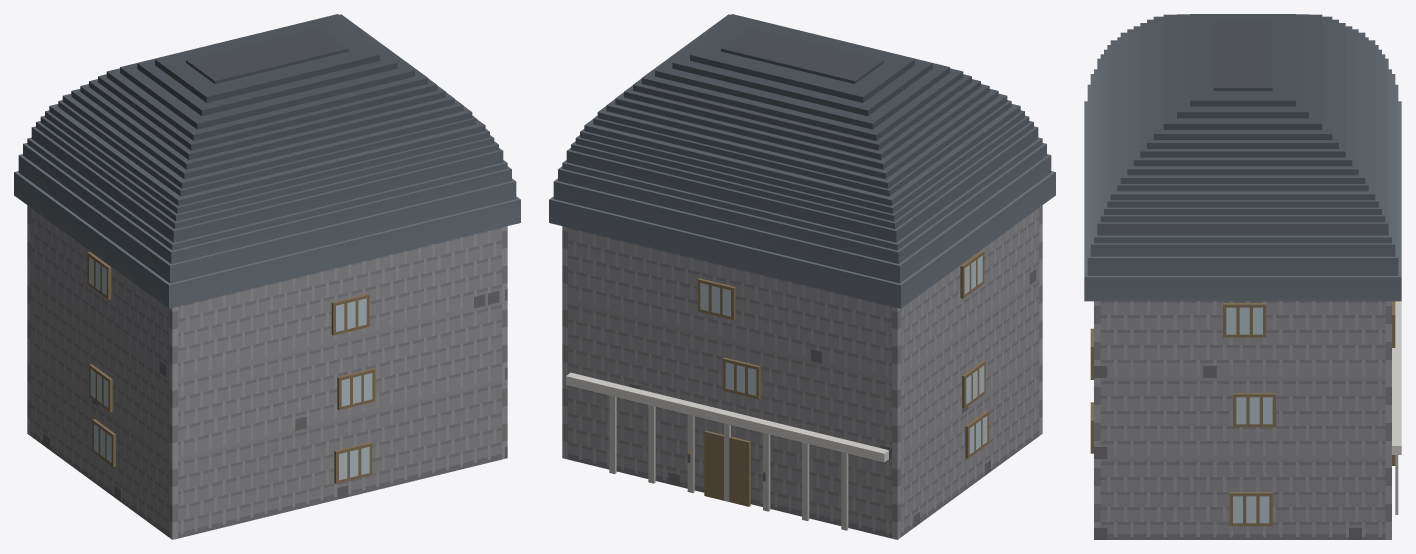
Rendered from academia_arcana_02.glb.
3 renders of one model, left to right at view 1: azimuth 30°, elevation 25°; view 2: azimuth 150°, elevation 25°; view 3: azimuth 270°, elevation 25°, orthographic. The views are drawn at different scales.
Visible parts, largest first — view 1: academia_arcana_02; view 2: academia_arcana_02; view 3: academia_arcana_02.
Boxes of the visible parts, left/top/right/bottom form: academia_arcana_02: left=14, top=14, right=520, bottom=539; academia_arcana_02: left=549, top=14, right=1055, bottom=539; academia_arcana_02: left=1084, top=14, right=1401, bottom=539.
Size of the model in its own units: 12.6 by 13.4 by 9.6.
